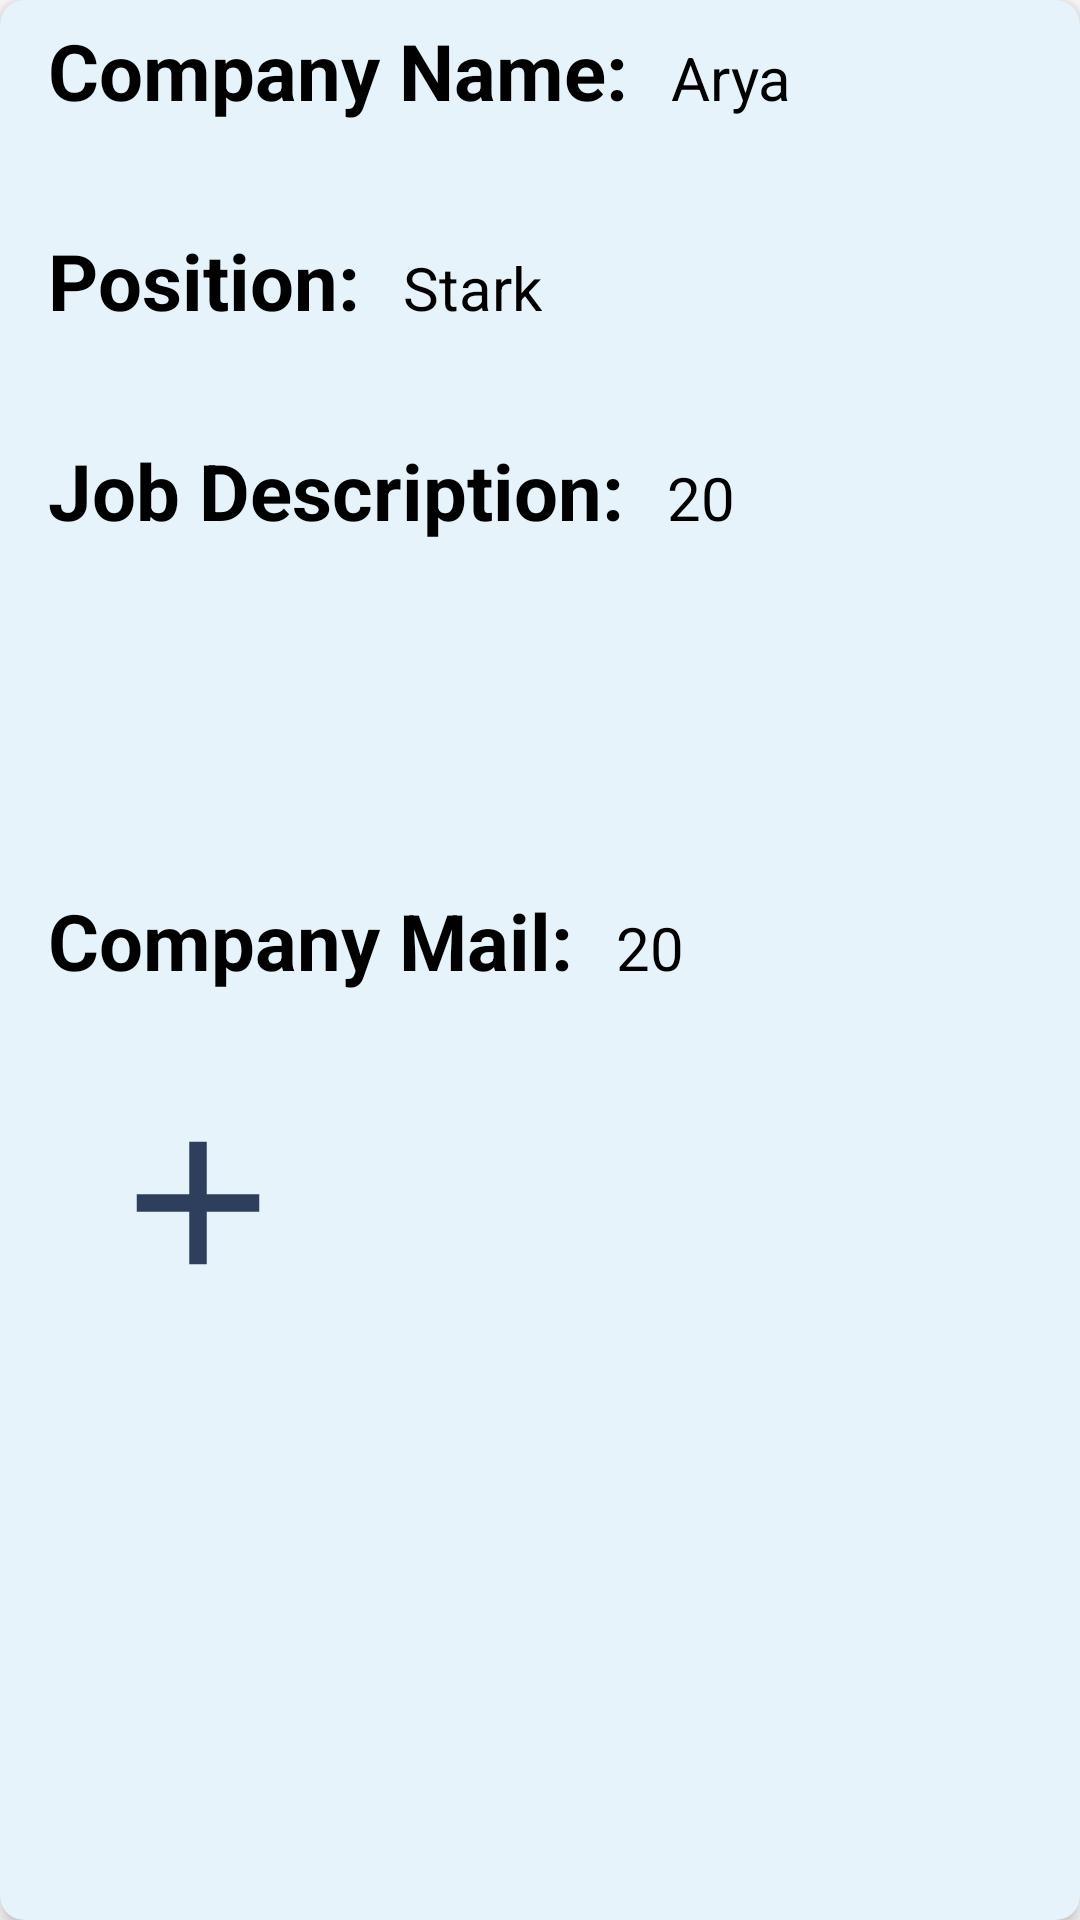

Locate icon controls on the screen. Image size 1080*1920, boxes as (x1, y1, x2, y2).
add: (136, 1141, 260, 1265)
